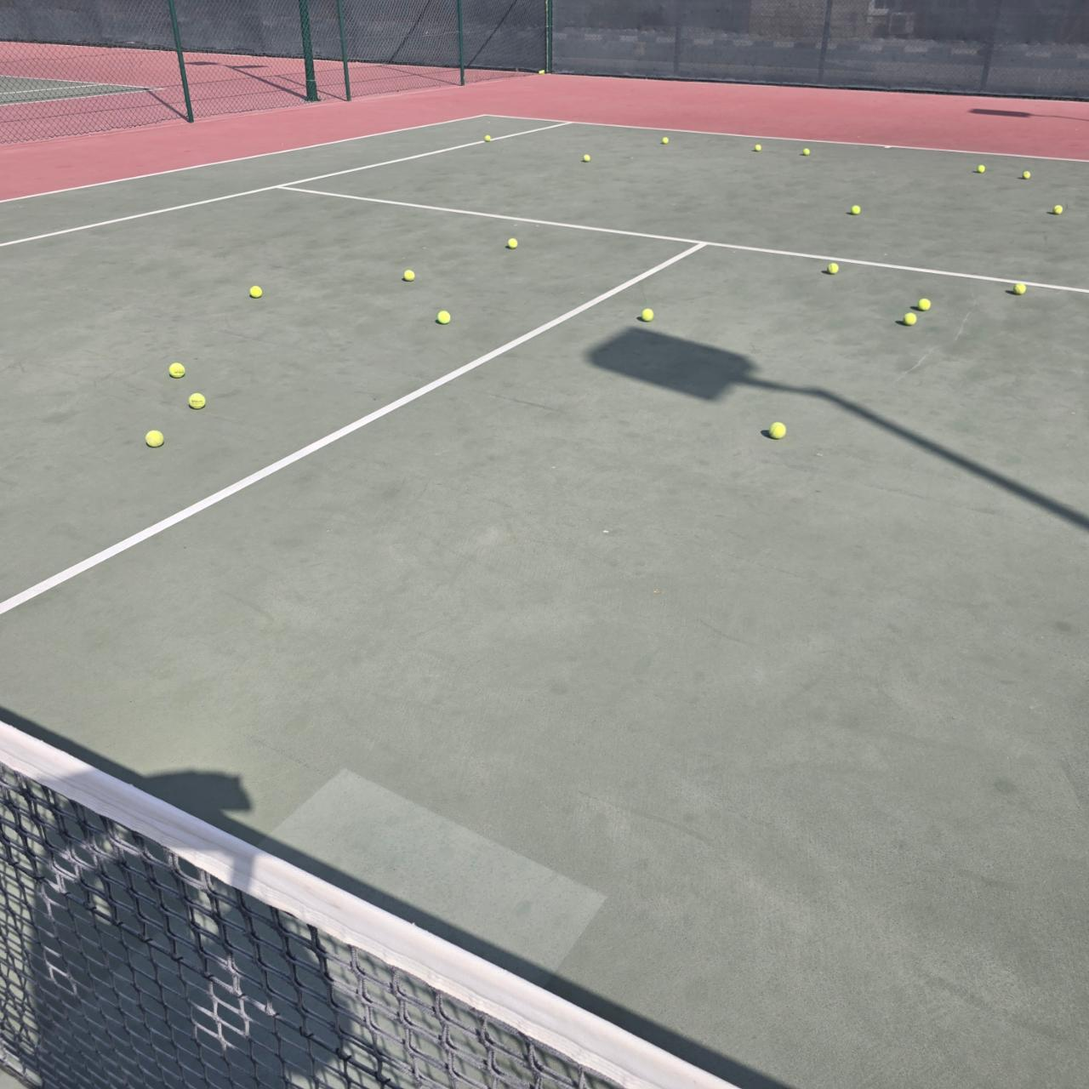tennis-ball: (143, 427, 164, 448), (768, 419, 786, 438), (167, 360, 185, 378), (187, 391, 205, 409), (435, 308, 451, 324), (638, 305, 653, 322), (916, 295, 931, 311), (248, 283, 262, 298), (902, 312, 917, 326), (401, 267, 415, 281), (1012, 282, 1026, 296), (826, 263, 840, 275), (507, 237, 518, 250), (1052, 204, 1063, 215), (851, 205, 861, 215), (1022, 171, 1031, 180), (977, 164, 985, 174), (583, 154, 592, 162), (802, 148, 811, 156), (662, 137, 669, 145), (755, 144, 762, 152), (484, 135, 491, 142), (539, 69, 544, 74)
